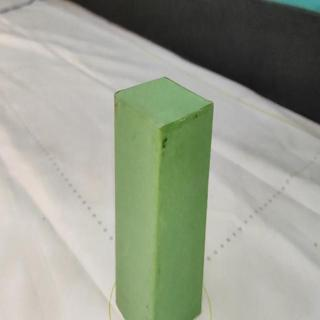greenbox: (113, 75, 215, 320)
